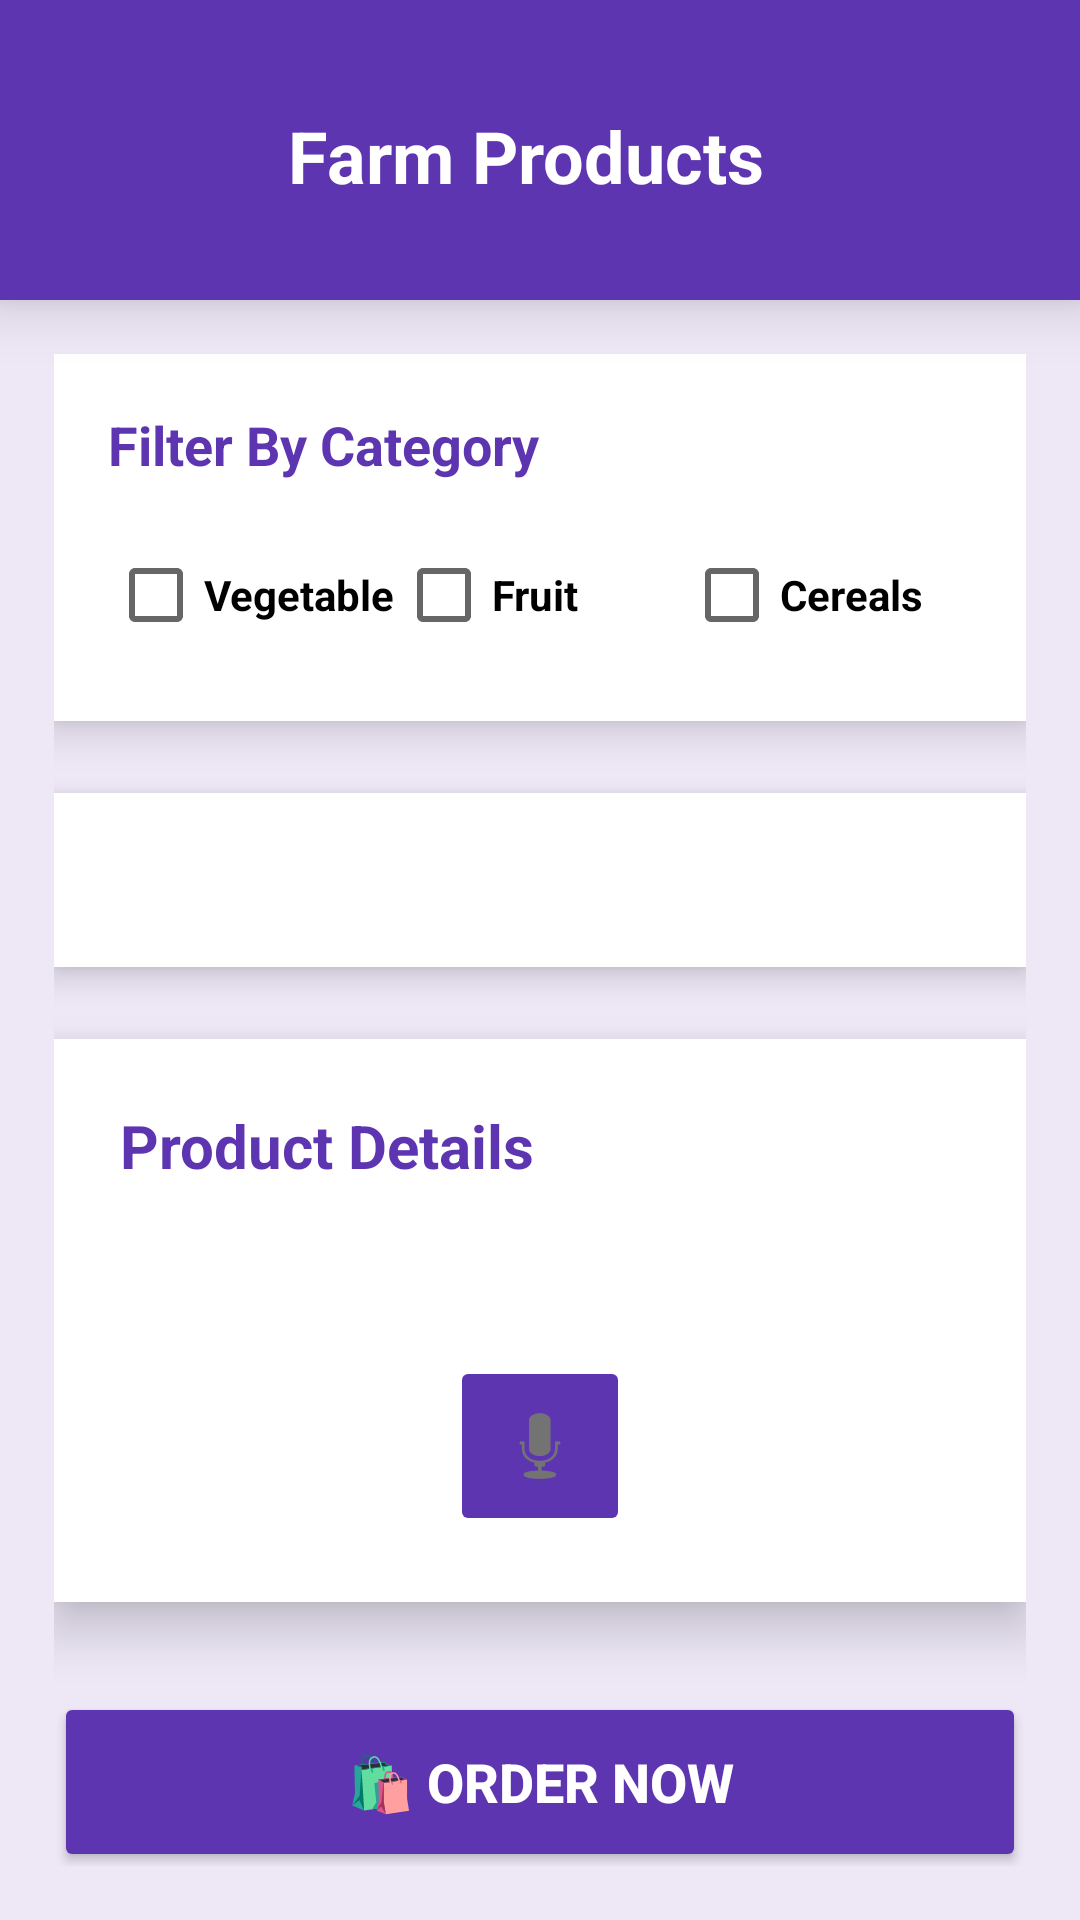

Icons on this 1080px x 1920px Android screen, each with its box as [left=x1, top=y1, right=x2, bottom=y2]:
Speak product details: [left=462, top=1374, right=618, bottom=1518]
